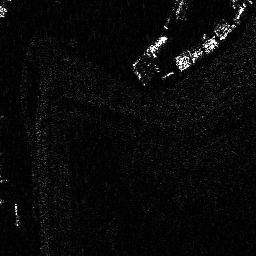ship: (145, 35, 168, 56)
